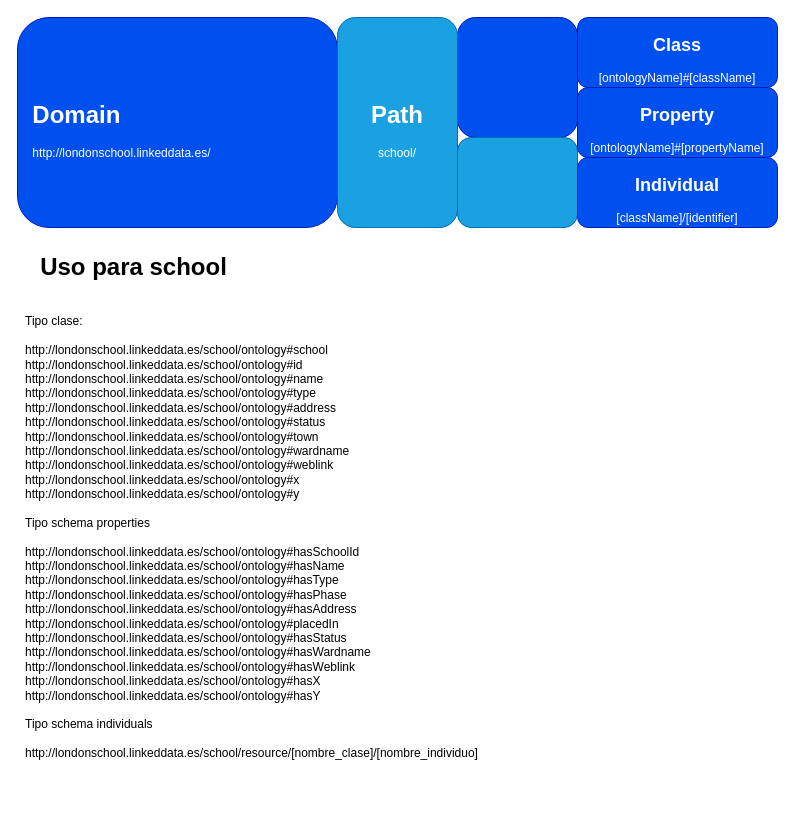
This 795x815 diagram has some shape labels left out. Here are the shapes that lost their labels. From the top down, the centre of each, then its label:
At point (517, 77): "Ontology ontology /".
At point (517, 182): "Data resource/".
